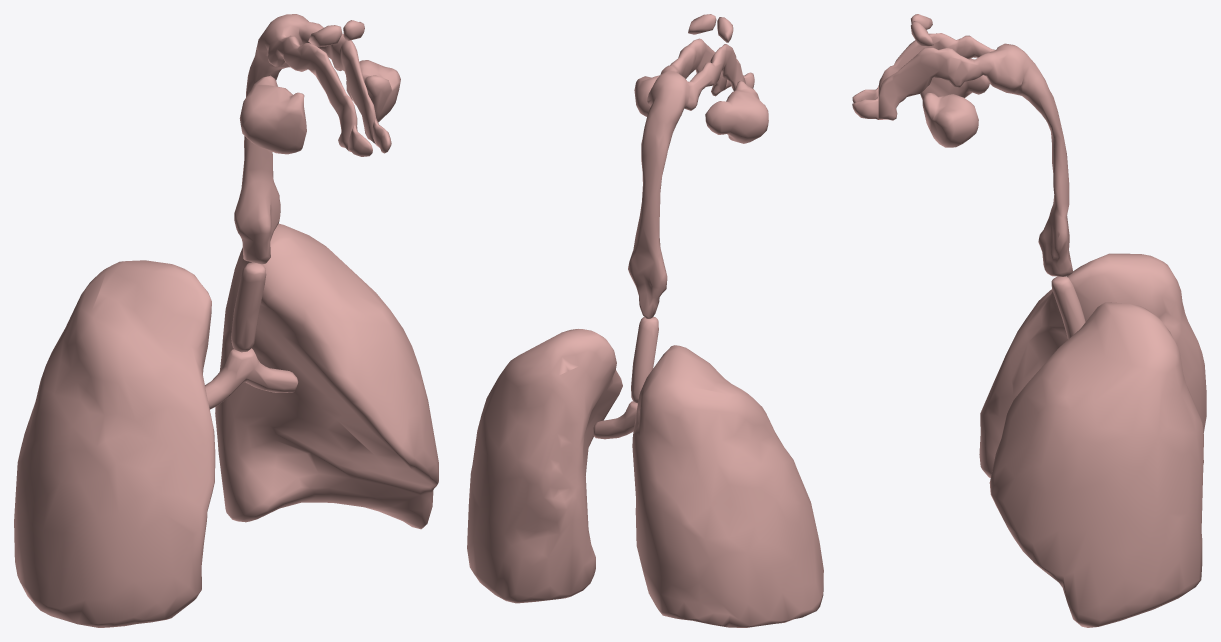
Rendered from pediatric_child_5y_male.respiratory.LOD1.glb.
3 renders of one model, left to right at view 1: azimuth 30°, elevation 25°; view 2: azimuth 150°, elevation 25°; view 3: azimuth 270°, elevation 25°, orthographic. The views are drawn at different scales.
Visible parts, largest first — view 1: PEDIATRIC.CHILD_5Y.MALE.RESPIRATORY.LUNG.R, PEDIATRIC.CHILD_5Y.MALE.RESPIRATORY.LUNG.L, PEDIATRIC.CHILD_5Y.MALE.RESPIRATORY.ET2, PEDIATRIC.CHILD_5Y.MALE.RESPIRATORY.BB1, PEDIATRIC.CHILD_5Y.MALE.RESPIRATORY.TRACHEA, PEDIATRIC.CHILD_5Y.MALE.RESPIRATORY.ET1; view 2: PEDIATRIC.CHILD_5Y.MALE.RESPIRATORY.LUNG.R, PEDIATRIC.CHILD_5Y.MALE.RESPIRATORY.LUNG.L, PEDIATRIC.CHILD_5Y.MALE.RESPIRATORY.ET2, PEDIATRIC.CHILD_5Y.MALE.RESPIRATORY.TRACHEA, PEDIATRIC.CHILD_5Y.MALE.RESPIRATORY.BB1; view 3: PEDIATRIC.CHILD_5Y.MALE.RESPIRATORY.LUNG.L, PEDIATRIC.CHILD_5Y.MALE.RESPIRATORY.ET2, PEDIATRIC.CHILD_5Y.MALE.RESPIRATORY.LUNG.R, PEDIATRIC.CHILD_5Y.MALE.RESPIRATORY.TRACHEA, PEDIATRIC.CHILD_5Y.MALE.RESPIRATORY.ET1.
Part boxes in pixels (x1,y1,x2,y2): PEDIATRIC.CHILD_5Y.MALE.RESPIRATORY.LUNG.R: (14, 260, 215, 627); PEDIATRIC.CHILD_5Y.MALE.RESPIRATORY.LUNG.L: (215, 223, 438, 529); PEDIATRIC.CHILD_5Y.MALE.RESPIRATORY.ET2: (234, 14, 400, 264); PEDIATRIC.CHILD_5Y.MALE.RESPIRATORY.BB1: (205, 348, 298, 409); PEDIATRIC.CHILD_5Y.MALE.RESPIRATORY.TRACHEA: (231, 262, 266, 352); PEDIATRIC.CHILD_5Y.MALE.RESPIRATORY.ET1: (348, 119, 391, 156); PEDIATRIC.CHILD_5Y.MALE.RESPIRATORY.LUNG.R: (632, 345, 823, 627); PEDIATRIC.CHILD_5Y.MALE.RESPIRATORY.LUNG.L: (467, 329, 622, 603); PEDIATRIC.CHILD_5Y.MALE.RESPIRATORY.ET2: (628, 14, 768, 318); PEDIATRIC.CHILD_5Y.MALE.RESPIRATORY.TRACHEA: (631, 316, 658, 403); PEDIATRIC.CHILD_5Y.MALE.RESPIRATORY.BB1: (593, 401, 637, 439); PEDIATRIC.CHILD_5Y.MALE.RESPIRATORY.LUNG.L: (989, 302, 1203, 627); PEDIATRIC.CHILD_5Y.MALE.RESPIRATORY.ET2: (878, 14, 1072, 276); PEDIATRIC.CHILD_5Y.MALE.RESPIRATORY.LUNG.R: (979, 253, 1206, 477); PEDIATRIC.CHILD_5Y.MALE.RESPIRATORY.TRACHEA: (1051, 276, 1085, 339); PEDIATRIC.CHILD_5Y.MALE.RESPIRATORY.ET1: (852, 86, 878, 119).
Size of the model in its own units: 0.1722 by 0.259 by 0.1556.
